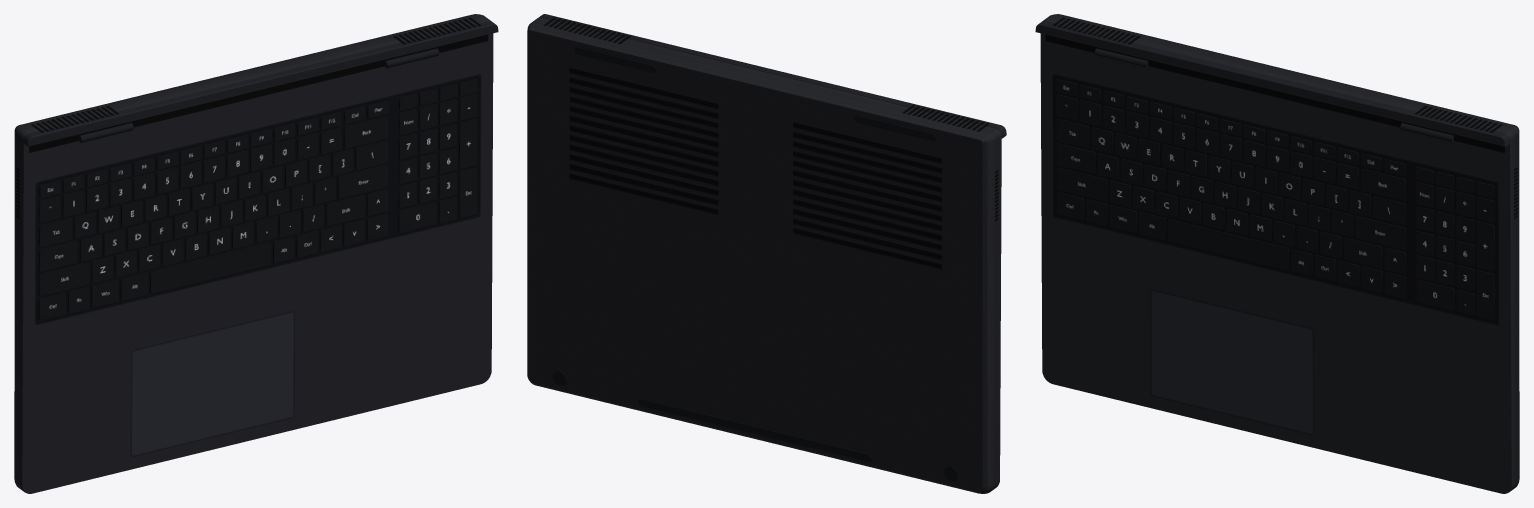
File: body.obj
The picture shows the model from 3 angles, left to right: view 1: azimuth 30°, elevation 25°; view 2: azimuth 150°, elevation 25°; view 3: azimuth 330°, elevation 25°; orthographic projection.
Parts seen in each view (by area): view 1: deck, keys, base.001, base.004, deck.002, hinge; view 2: base, base.001, base.004, base.006, deck.002; view 3: deck, keys, base.001, base.003, deck.002, hinge.
Part boxes in pixels (box(x1,y1,x2,y2)): deck: box(22, 24, 498, 493); keys: box(38, 79, 477, 320); base.001: box(16, 14, 491, 135); base.004: box(14, 127, 24, 491); deck.002: box(25, 21, 495, 138); hinge: box(80, 48, 439, 142); base: box(527, 27, 987, 493); base.001: box(528, 17, 999, 140); base.004: box(985, 131, 1001, 492); base.006: box(552, 47, 958, 481); deck.002: box(539, 14, 1004, 130); deck: box(1035, 24, 1511, 493); keys: box(1056, 79, 1495, 320); base.001: box(1042, 14, 1517, 135); base.003: box(1509, 127, 1519, 491); deck.002: box(1038, 21, 1508, 138); hinge: box(1094, 48, 1453, 142).
Size of the model in its own units: 345 by 255 by 24.05.
Materials: 8 (6 with a texture image).
